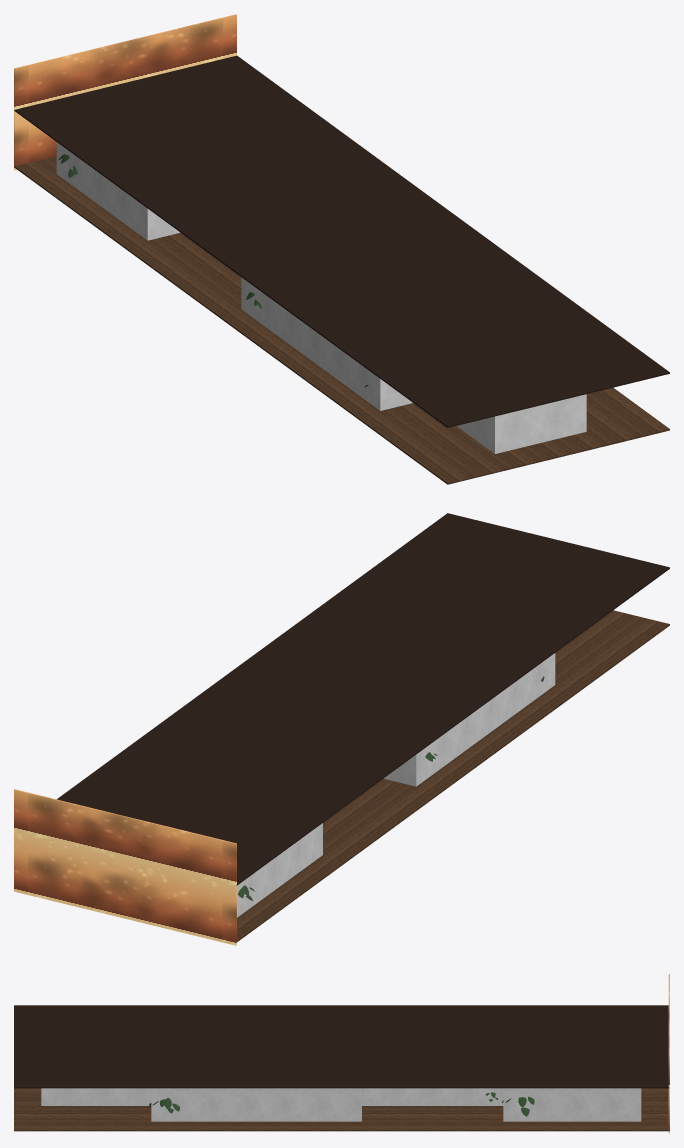
File: kemen-world.glb
3 renders of one model, top to bottom at view 1: azimuth 30°, elevation 25°; view 2: azimuth 150°, elevation 25°; view 3: azimuth 270°, elevation 25°, orthographic. The views are drawn at different scales.
Parts seen in each view (by area): view 1: static__ceiling, static__floor, static__sky, static__wall_warm, static__wall_dark; view 2: static__ceiling, static__sky, static__floor, static__wall_warm; view 3: static__ceiling, static__wall_warm, static__floor, static__wall_dark, static__sky.
Part boxes in pixels (x1,y1,x2,y2): static__ceiling: [14, 55, 669, 427]; static__floor: [14, 156, 669, 484]; static__sky: [14, 14, 236, 170]; static__wall_warm: [56, 142, 378, 409]; static__wall_dark: [379, 378, 586, 453]; static__ceiling: [57, 513, 669, 885]; static__sky: [14, 789, 236, 945]; static__floor: [236, 610, 669, 942]; static__wall_warm: [237, 654, 553, 917]; static__ceiling: [14, 1005, 669, 1088]; static__wall_warm: [153, 1088, 641, 1121]; static__floor: [14, 1088, 669, 1131]; static__wall_dark: [41, 1088, 153, 1121]; static__sky: [668, 974, 669, 1133].
Bounding box in the file's own units: 16 × 7 × 54.05.
24 materials, 8 textured.
